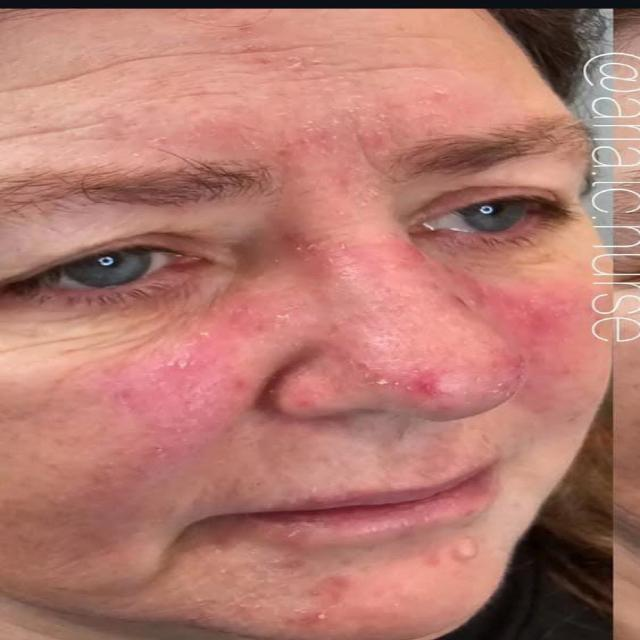Rosacea: (97, 351, 259, 439), (439, 269, 586, 342), (360, 351, 460, 411)
